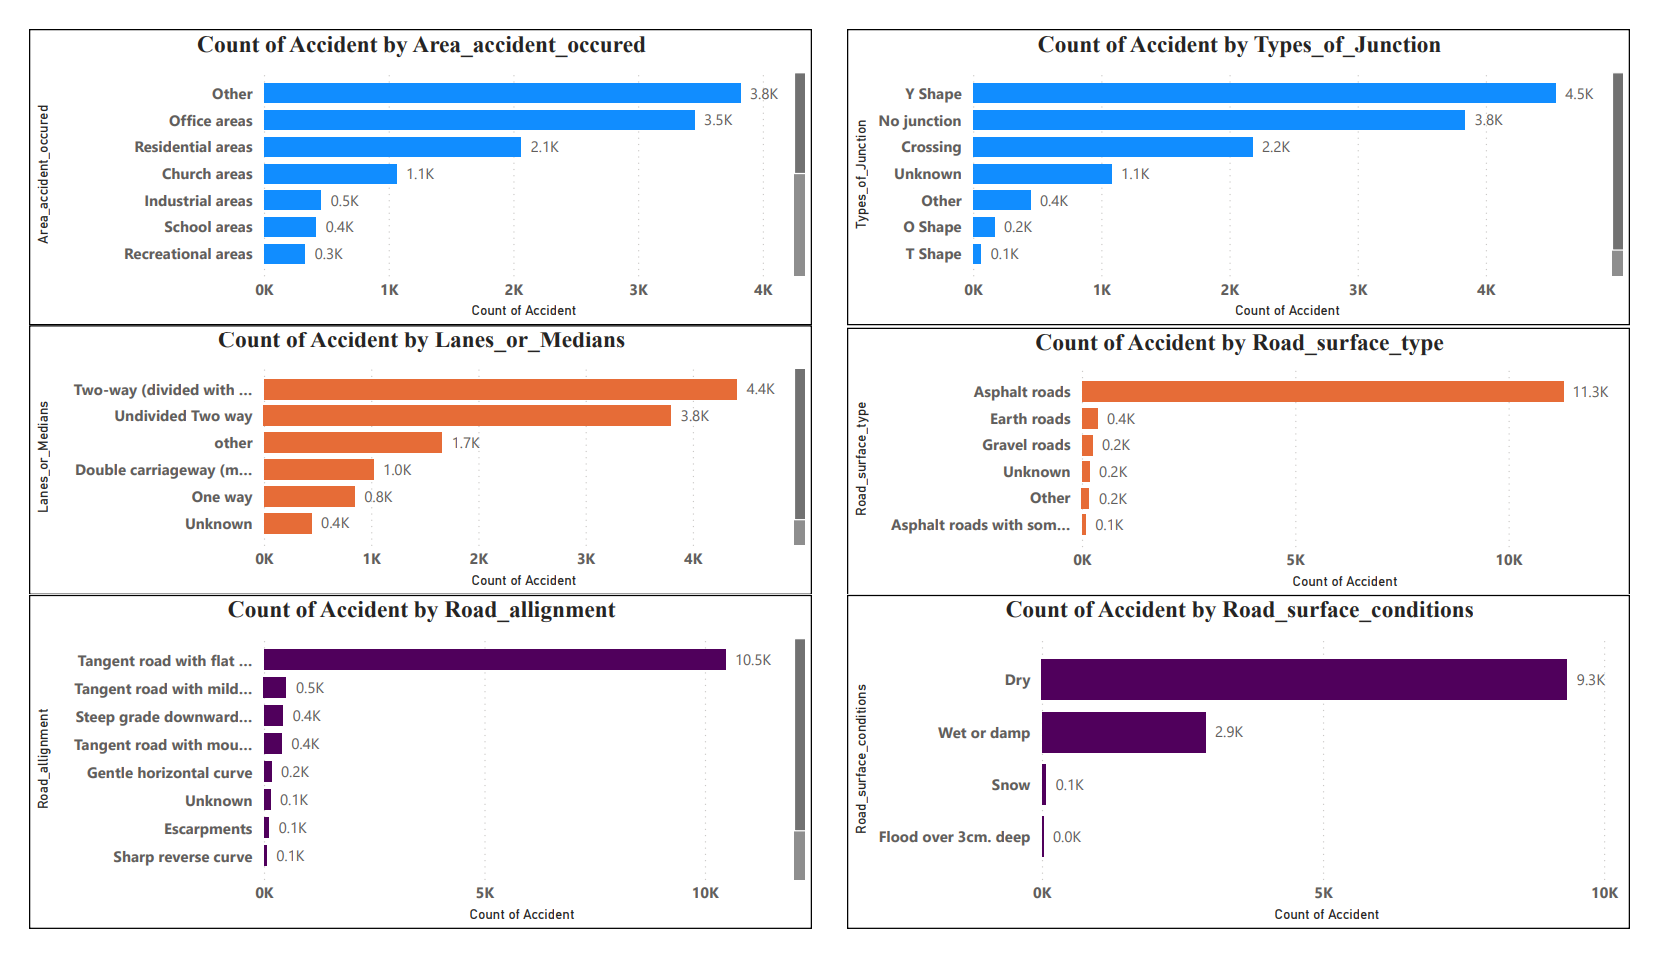

The page's visual inventory and layout, read from the dashboard file:
{"tool":"powerbi","page":{"name":"Count of Accident by type 2","canvas":[1280,720],"ordinal":4},"visuals":[{"type":"barChart","fields":{"Y":["CountNonNull(RTA Dataset.Index)"],"Category":["RTA Dataset.Area_accident_occured"]},"box":[0,0,625.7,237.1],"z":0},{"type":"barChart","fields":{"Y":["CountNonNull(RTA Dataset.Index)"],"Category":["RTA Dataset.Lanes_or_Medians"]},"box":[0,237.1,625.7,215.7],"z":1},{"type":"barChart","fields":{"Y":["CountNonNull(RTA Dataset.Index)"],"Category":["RTA Dataset.Road_allignment"]},"box":[0,452.9,625.7,267.1],"z":2},{"type":"barChart","fields":{"Y":["CountNonNull(RTA Dataset.Index)"],"Category":["RTA Dataset.Types_of_Junction"]},"box":[654.3,0,625.7,237.1],"z":3},{"type":"barChart","fields":{"Y":["CountNonNull(RTA Dataset.Index)"],"Category":["RTA Dataset.Road_surface_type"]},"box":[654.3,238.6,625.7,215.7],"z":4},{"type":"barChart","fields":{"Y":["CountNonNull(RTA Dataset.Index)"],"Category":["RTA Dataset.Road_surface_conditions"]},"box":[654.3,452.9,625.7,267.1],"z":5}]}

Visuals, with their boxes in screenshot pixels (x1, y1, x2, y2), scaled from the page's 1280x720 canvas onto the 1655x956 screenshot:
barChart - CountNonNull(RTA Dataset.Index) x RTA Dataset.Area_accident_occured: [0, 0, 809, 315]
barChart - CountNonNull(RTA Dataset.Index) x RTA Dataset.Lanes_or_Medians: [0, 315, 809, 601]
barChart - CountNonNull(RTA Dataset.Index) x RTA Dataset.Road_allignment: [0, 601, 809, 955]
barChart - CountNonNull(RTA Dataset.Index) x RTA Dataset.Types_of_Junction: [846, 0, 1654, 315]
barChart - CountNonNull(RTA Dataset.Index) x RTA Dataset.Road_surface_type: [846, 317, 1654, 603]
barChart - CountNonNull(RTA Dataset.Index) x RTA Dataset.Road_surface_conditions: [846, 601, 1654, 955]
